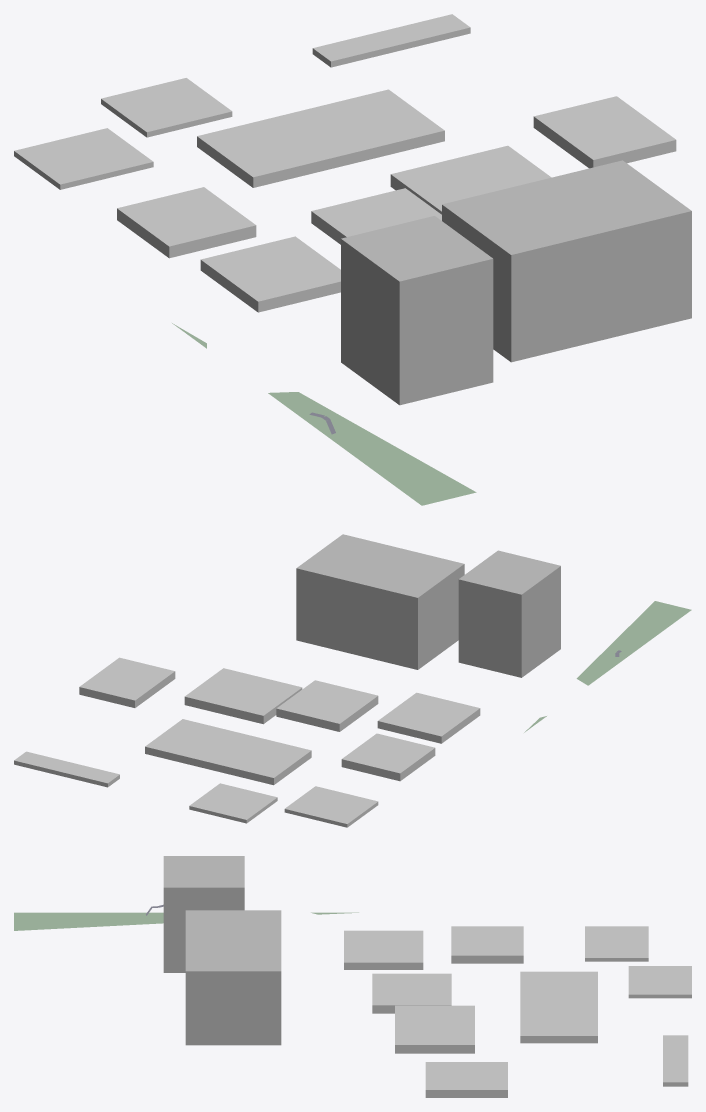
The model's file is 115_79_mid.glb.
The picture shows the model from 3 angles, top to bottom: view 1: azimuth 30°, elevation 25°; view 2: azimuth 150°, elevation 25°; view 3: azimuth 270°, elevation 25°; orthographic projection. The views are drawn at different scales.
Bounding box in the file's own units: 325 × 69.45 × 498.
